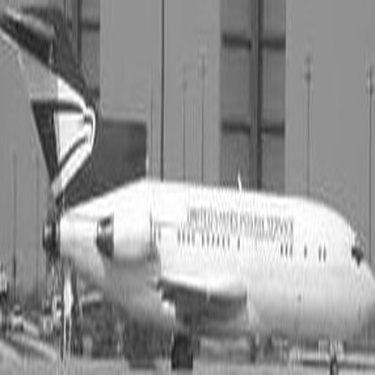airplane: (5, 5, 369, 371)
